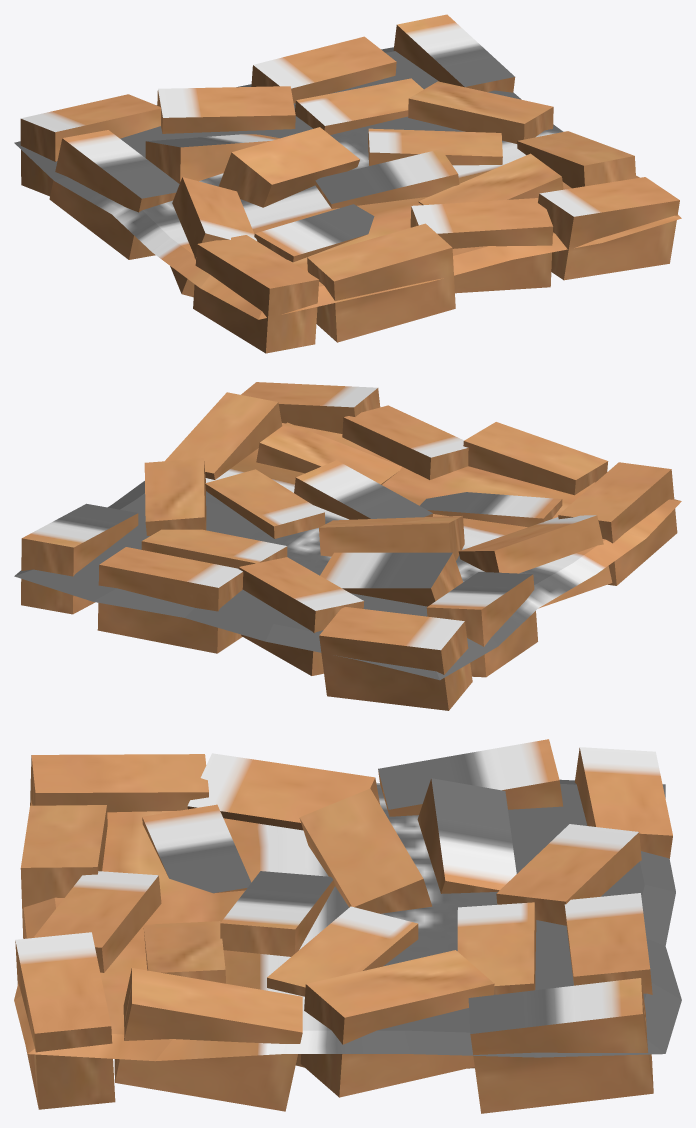
The model's file is Brick_Wall_2x2_Destructed.fbx.
3 renders of one model, top to bottom at view 1: azimuth 30°, elevation 25°; view 2: azimuth 150°, elevation 25°; view 3: azimuth 270°, elevation 25°, orthographic. The views are drawn at different scales.
Visible parts, largest first — view 1: Brick_Wall_2x2_Destructed; view 2: Brick_Wall_2x2_Destructed; view 3: Brick_Wall_2x2_Destructed.
Boxes of the visible parts, bbox=[...] form: Brick_Wall_2x2_Destructed: bbox=[14, 14, 681, 353]; Brick_Wall_2x2_Destructed: bbox=[14, 382, 681, 710]; Brick_Wall_2x2_Destructed: bbox=[14, 739, 681, 1113].
Bounding box in the file's own units: 2.1 × 0.4734 × 2.09.
